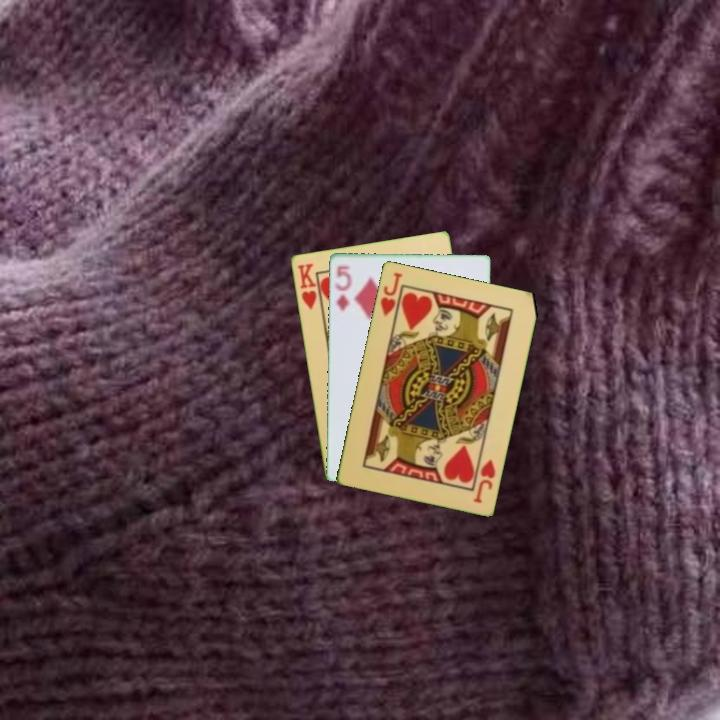5d: (331, 262, 354, 313)
Jh: (377, 268, 405, 319), (470, 455, 498, 506)
Kh: (294, 259, 324, 313)
